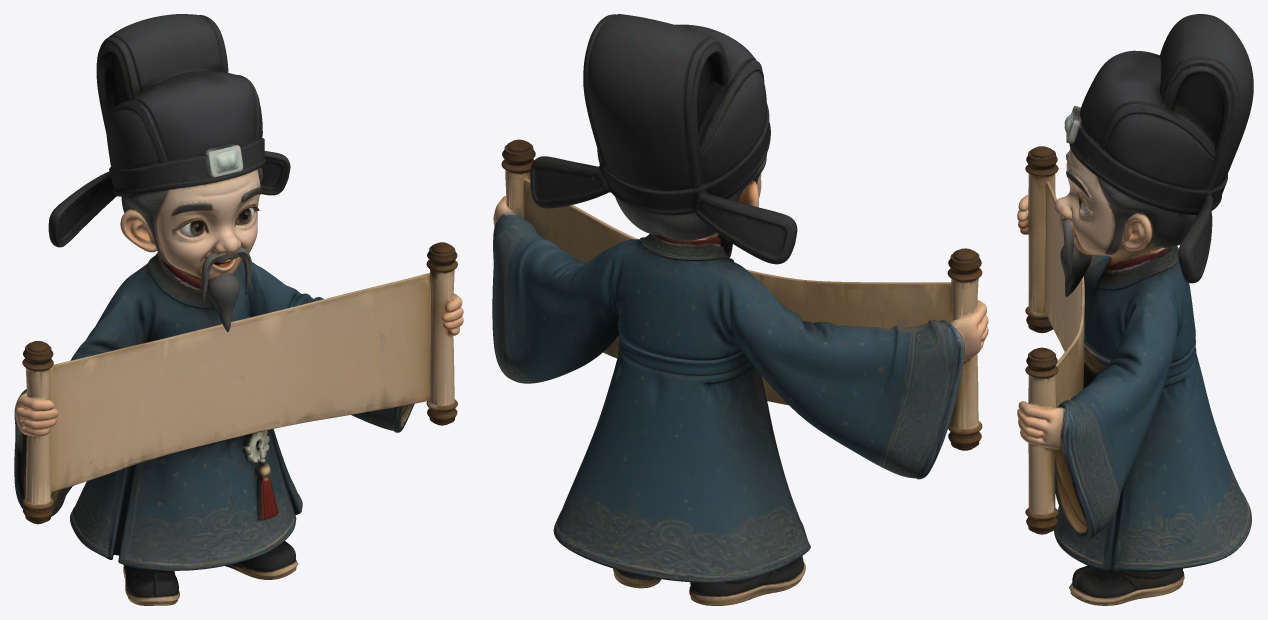
File: scroll.glb
The picture shows the model from 3 angles, left to right: view 1: azimuth 30°, elevation 25°; view 2: azimuth 150°, elevation 25°; view 3: azimuth 270°, elevation 25°; orthographic projection. The views are drawn at different scales.
Visible parts, largest first — view 1: node_0; view 2: node_0; view 3: node_0.
Boxes of the visible parts, <box> form: node_0: <box>14,14,463,605</box>; node_0: <box>492,14,988,605</box>; node_0: <box>1017,14,1253,605</box>.
Size of the model in its own units: 1 by 1.15 by 0.4576.
Materials: 1 (1 with a texture image).
